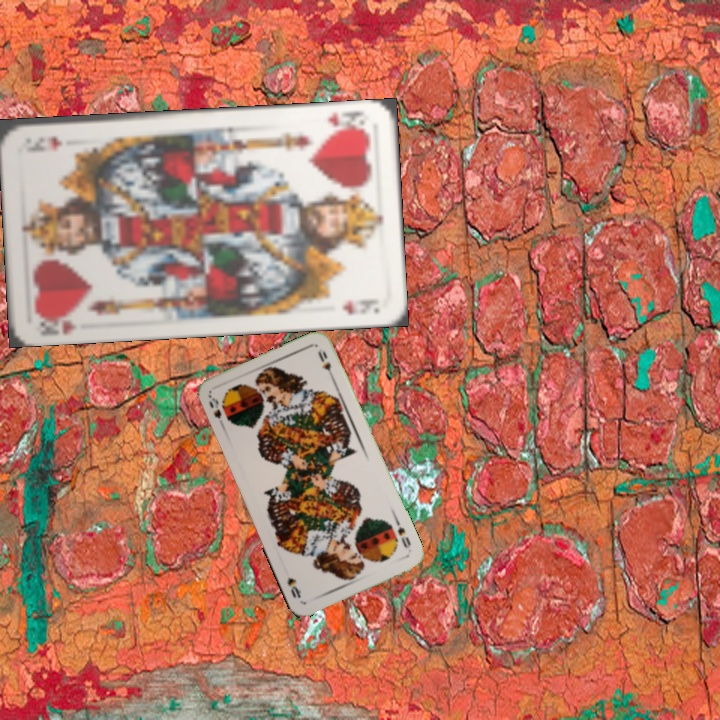HK: (32, 308, 79, 338), (323, 107, 368, 135)
SO: (392, 516, 414, 551), (204, 392, 224, 421)
